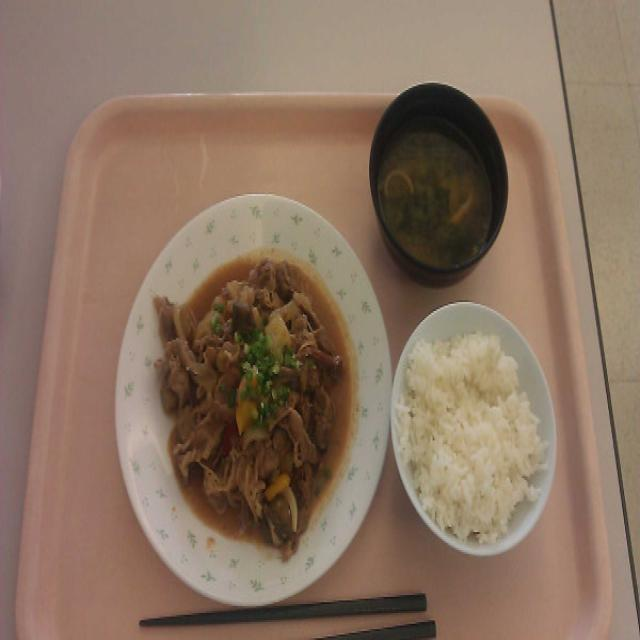Rice: (403, 322, 550, 539)
